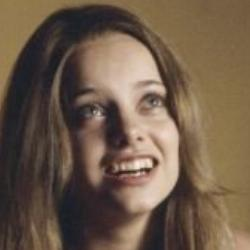face: (1, 6, 224, 235)
